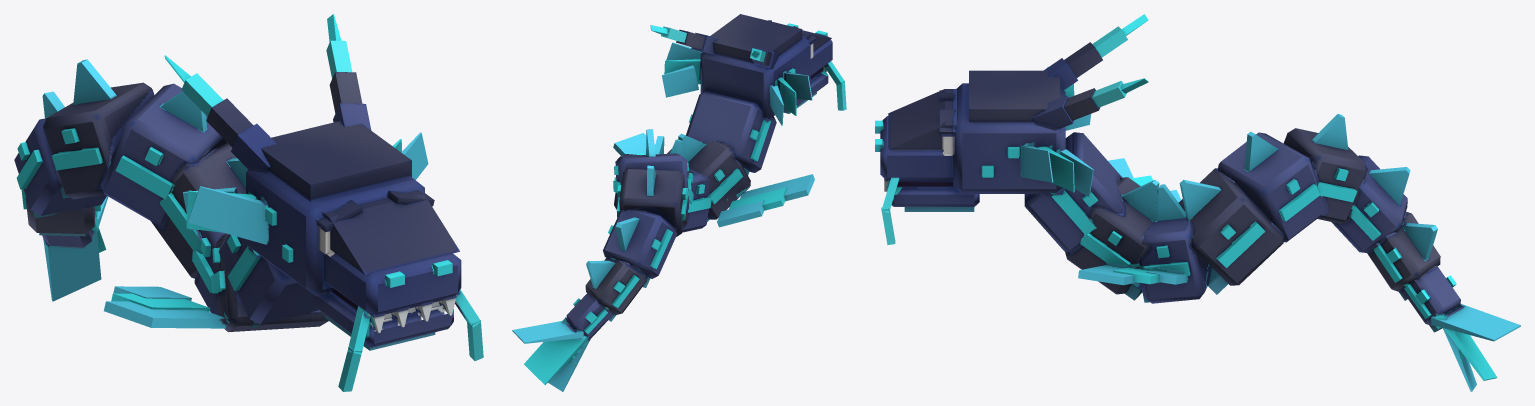
The model's file is LeviathanAbyssal_Rig.fbx.
3 views of the same model, side by side, from view 1: azimuth 30°, elevation 25°; view 2: azimuth 150°, elevation 25°; view 3: azimuth 270°, elevation 25° (orthographic). The views are drawn at different scales.
Parts seen in each view (by area): view 1: Head, Seg4, Seg5, Seg0, Seg3, Seg6, FinR, Jaw, Seg8, Seg1, Seg7, Seg2; view 2: Head, Seg0, Seg8, Seg6, Seg5, Seg1, Seg7, FinR, Seg4, Seg2, FinL, Jaw (+1 smaller); view 3: Head, Seg3, Seg4, Seg8, Seg1, Seg0, Seg2, Seg5, Seg6, Seg7, Jaw, FinL.
Part boxes in pixels (bbox=[...]): Head: bbox=[164, 14, 483, 391]; Seg4: bbox=[100, 83, 227, 224]; Seg5: bbox=[43, 59, 154, 199]; Seg0: bbox=[219, 234, 318, 328]; Seg3: bbox=[151, 143, 247, 278]; Seg6: bbox=[14, 91, 106, 218]; FinR: bbox=[104, 286, 227, 328]; Jaw: bbox=[313, 289, 453, 350]; Seg8: bbox=[42, 196, 108, 301]; Seg1: bbox=[210, 233, 328, 332]; Seg7: bbox=[21, 189, 100, 236]; Seg2: bbox=[192, 230, 225, 314]; Head: bbox=[650, 14, 846, 125]; Seg0: bbox=[686, 91, 776, 175]; Seg8: bbox=[512, 293, 612, 391]; Seg6: bbox=[603, 209, 677, 287]; Seg5: bbox=[616, 165, 688, 236]; Seg1: bbox=[667, 133, 750, 221]; Seg7: bbox=[585, 258, 646, 321]; FinR: bbox=[717, 174, 814, 227]; Seg4: bbox=[613, 129, 691, 211]; Seg2: bbox=[670, 139, 711, 232]; FinL: bbox=[613, 133, 654, 155]; Jaw: bbox=[783, 68, 828, 113]; Head: bbox=[875, 14, 1148, 245]; Seg3: bbox=[1178, 168, 1284, 294]; Seg4: bbox=[1217, 131, 1326, 242]; Seg8: bbox=[1402, 265, 1520, 391]; Seg1: bbox=[1065, 177, 1159, 300]; Seg0: bbox=[1024, 132, 1122, 251]; Seg2: bbox=[1139, 184, 1209, 303]; Seg5: bbox=[1283, 114, 1367, 223]; Seg6: bbox=[1331, 155, 1410, 253]; Seg7: bbox=[1367, 211, 1440, 300]; Jaw: bbox=[891, 181, 979, 211]; FinL: bbox=[1078, 265, 1187, 285].
Bounding box in the file's own units: 4.69 × 6 × 10.54.
1 material, 1 textured.
